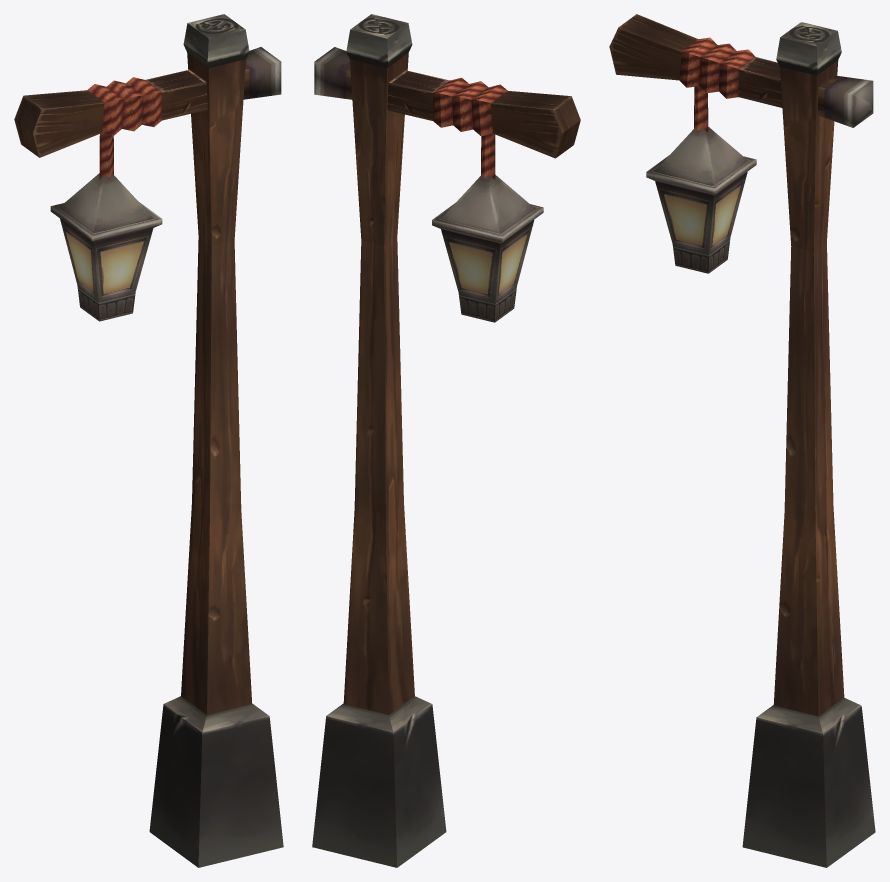
The model's file is ludeng1.FBX.
3 views of the same model, side by side, from view 1: azimuth 30°, elevation 25°; view 2: azimuth 150°, elevation 25°; view 3: azimuth 330°, elevation 25° (orthographic).
Parts seen in each view (by area): view 1: ludneg1; view 2: ludneg1; view 3: ludneg1.
Part boxes in pixels (<box>): ludneg1: <box>14,14,283,867</box>; ludneg1: <box>312,14,580,867</box>; ludneg1: <box>609,14,875,867</box>.
Size of the model in its own units: 1.42 by 4.31 by 0.4729.
